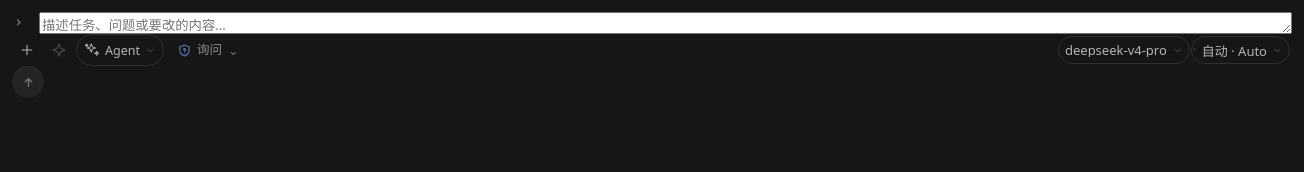
Test: refining a prompt before it is sent › asks only when there is a draft
Expected: the button named "优化提示词" is disabled, [44,36,73,64]
Type "修一下那个bug" into the dropdown with placeholder "描述任务、问题或要改的内容…".
click(666, 23); type("修一下那个bug")  # box [39,12,1292,34]
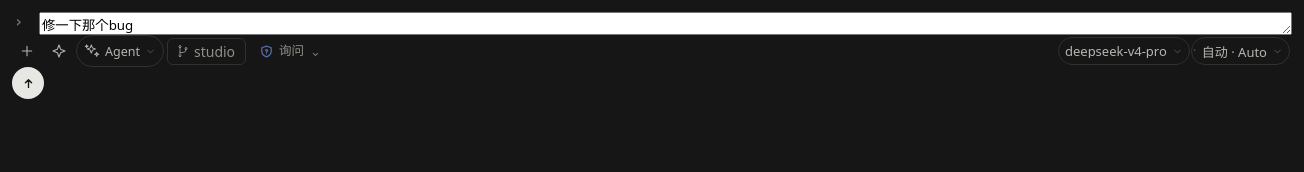
Expected: the button named "优化提示词" is enabled, [44,36,73,66]
